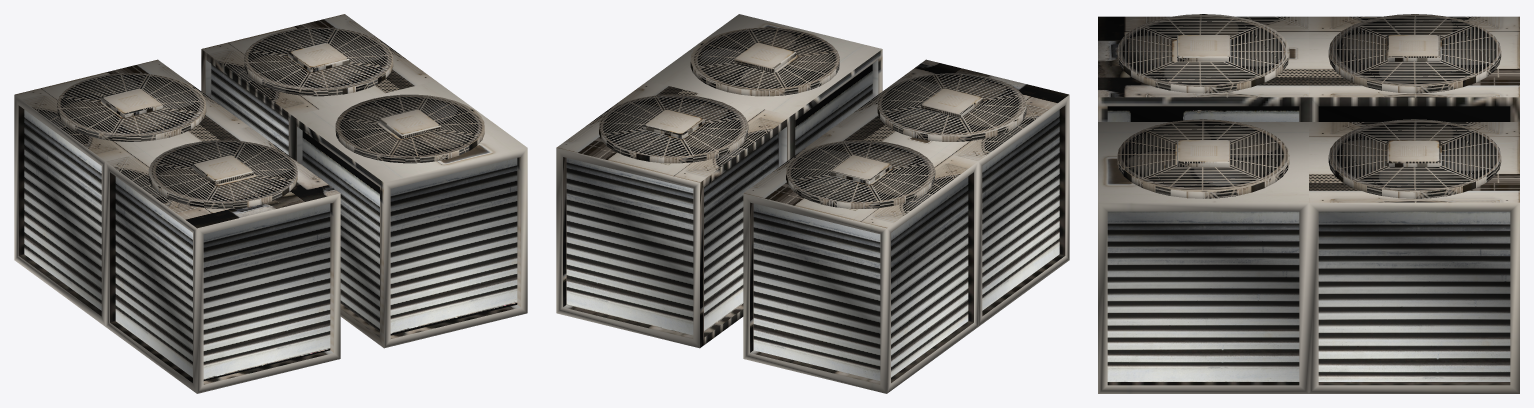
The model's file is ac boxes.glb.
The picture shows the model from 3 angles, left to right: view 1: azimuth 30°, elevation 25°; view 2: azimuth 150°, elevation 25°; view 3: azimuth 270°, elevation 25°; orthographic projection. The views are drawn at different scales.
Visible parts, largest first — view 1: AC Boxes; view 2: AC Boxes; view 3: AC Boxes.
Part boxes in pixels (<box>): AC Boxes: <box>14,14,527,393</box>; AC Boxes: <box>556,14,1069,393</box>; AC Boxes: <box>1098,14,1519,393</box>.
Bounding box in the file's own units: 2.93 × 1.49 × 2.8.
Materials: 2 (2 with a texture image).
